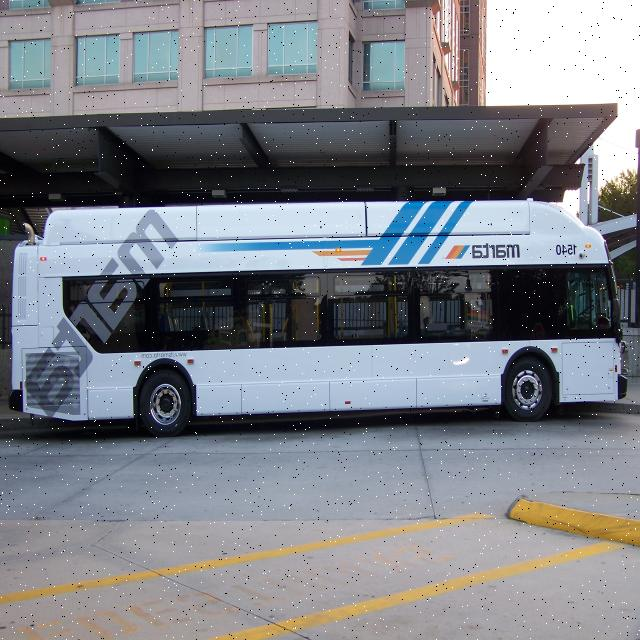Bus: (11, 199, 627, 432)
